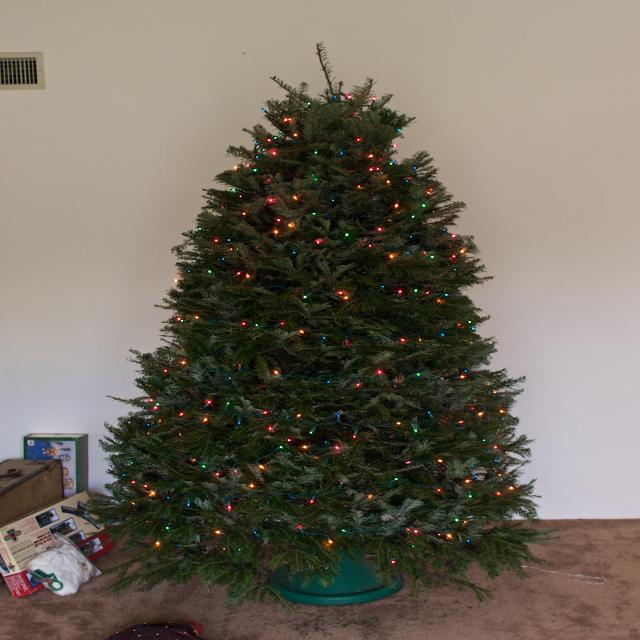Christmas-tree: (110, 24, 575, 566)
